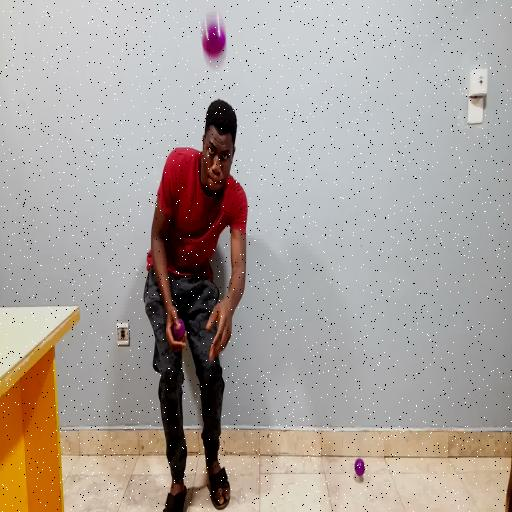plastic-ball: (202, 10, 228, 71)
